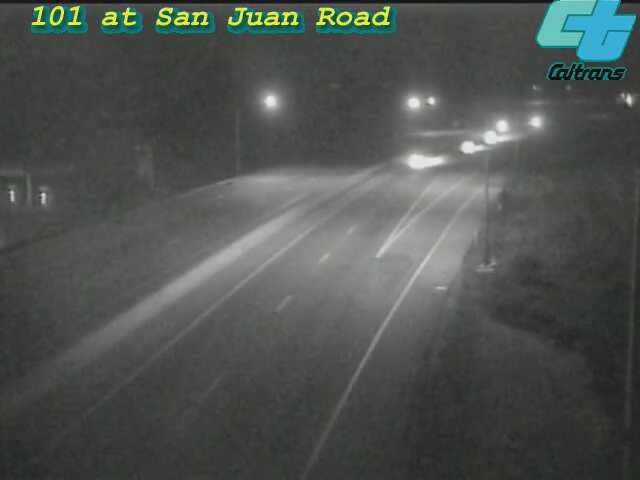vehicle: (377, 122, 457, 202), (475, 100, 525, 150), (507, 96, 557, 146), (467, 113, 517, 163), (442, 122, 492, 172)
